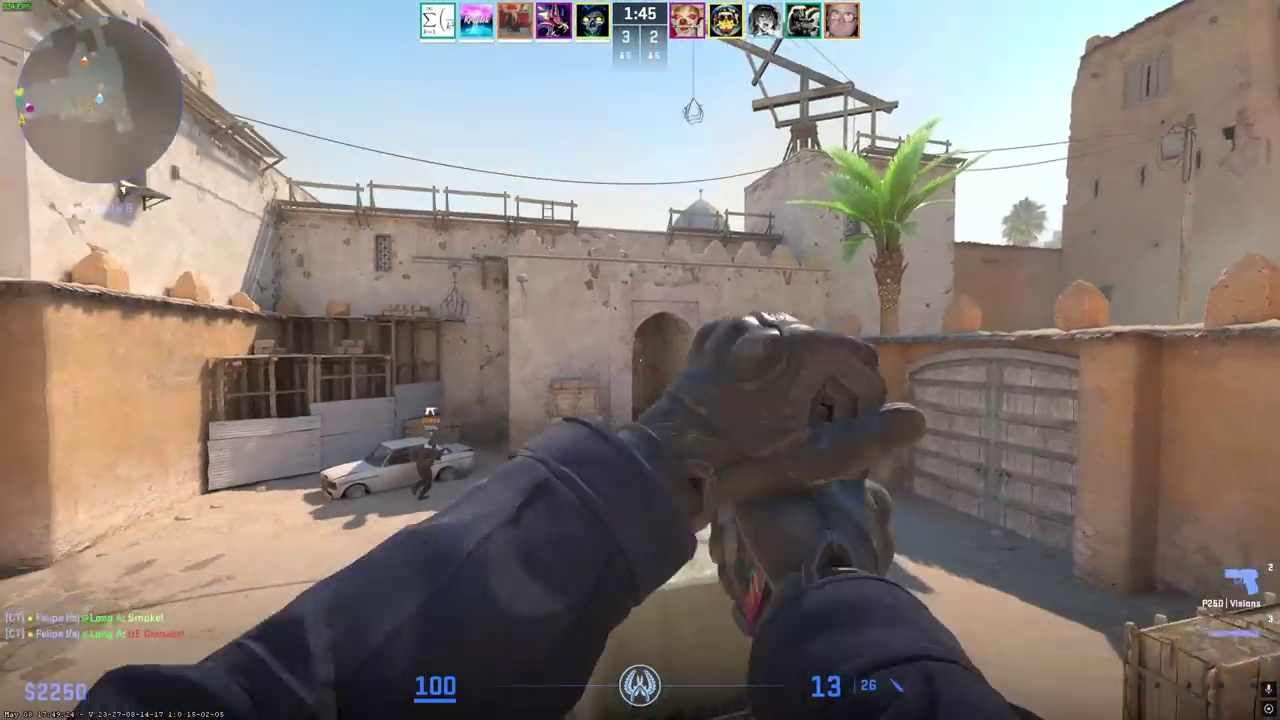CT: (413, 439, 440, 501)
